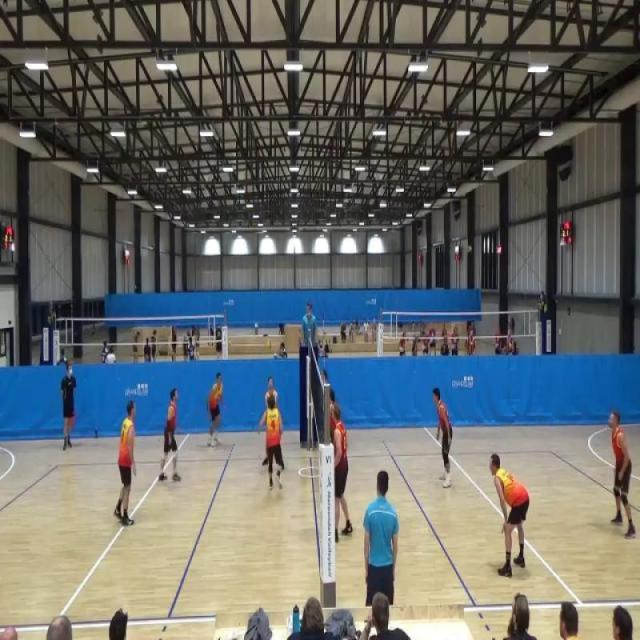volleyball: (264, 338, 272, 351)
